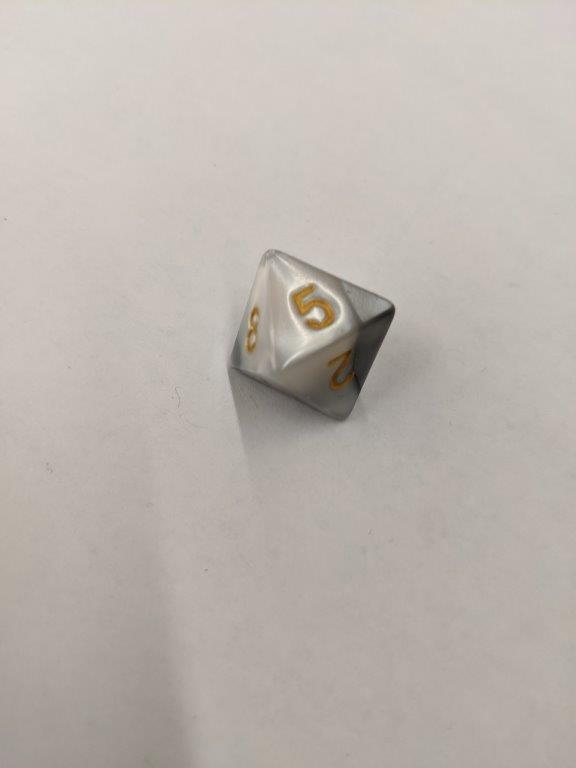d8-5: (229, 246, 401, 422)
